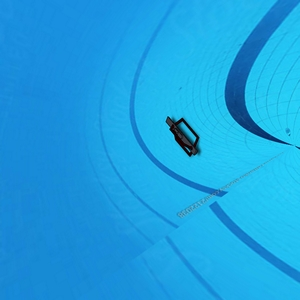submarine: (164, 117, 203, 161)
